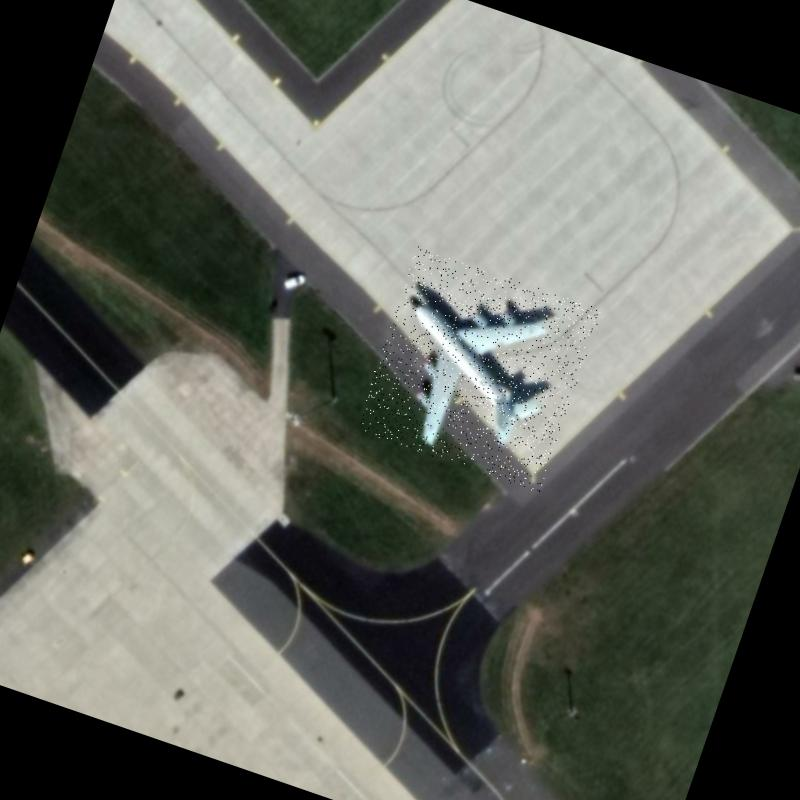A11: (354, 246, 602, 494)
